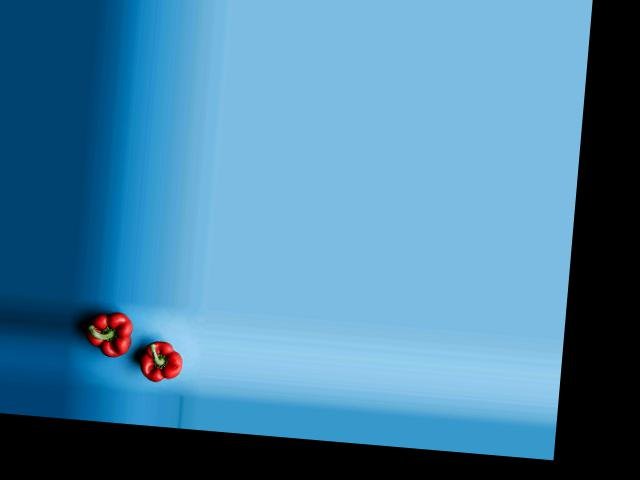bell_pepper: (78, 310, 142, 364)
